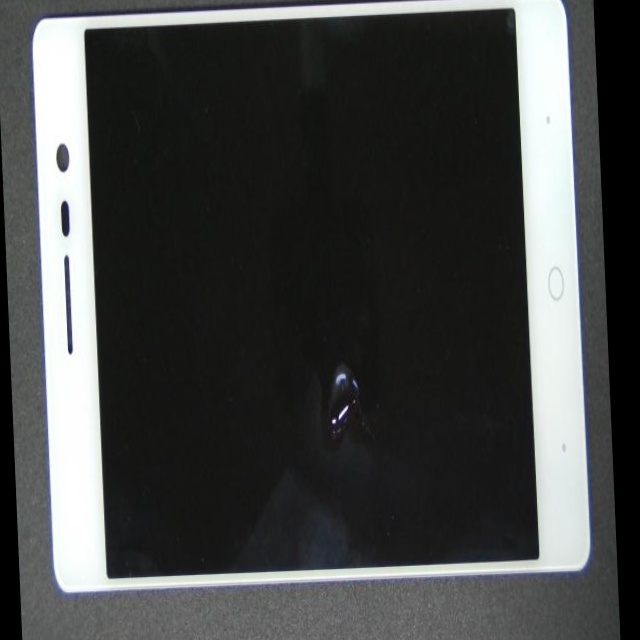oil: (186, 132, 532, 579)
